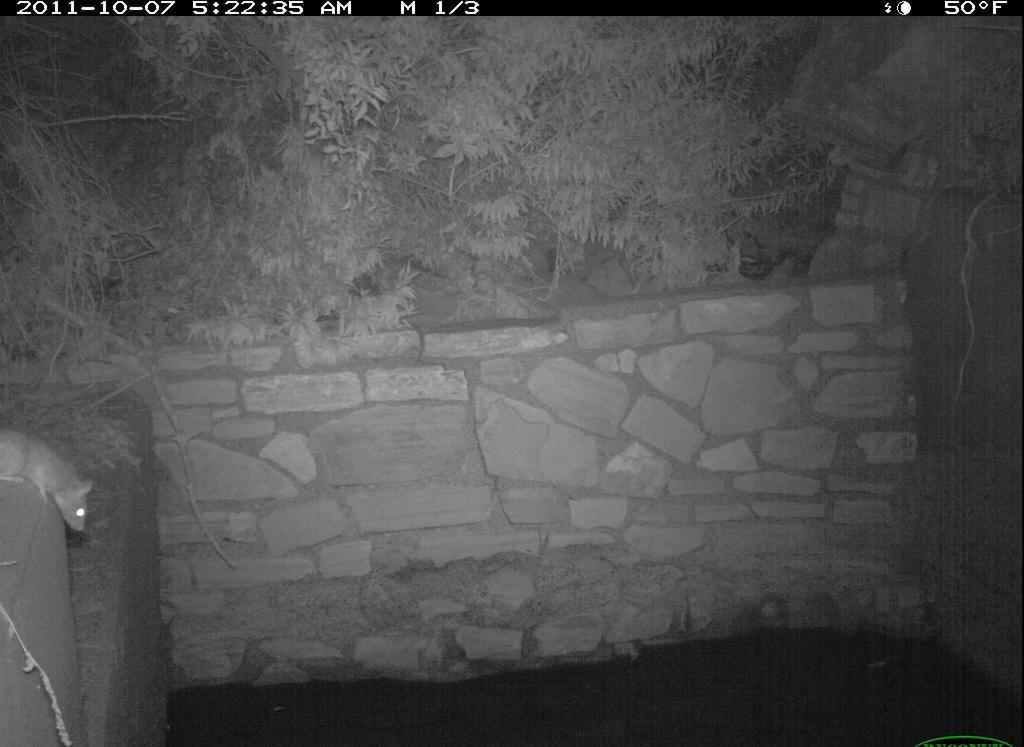rodent: (1, 415, 104, 555)
